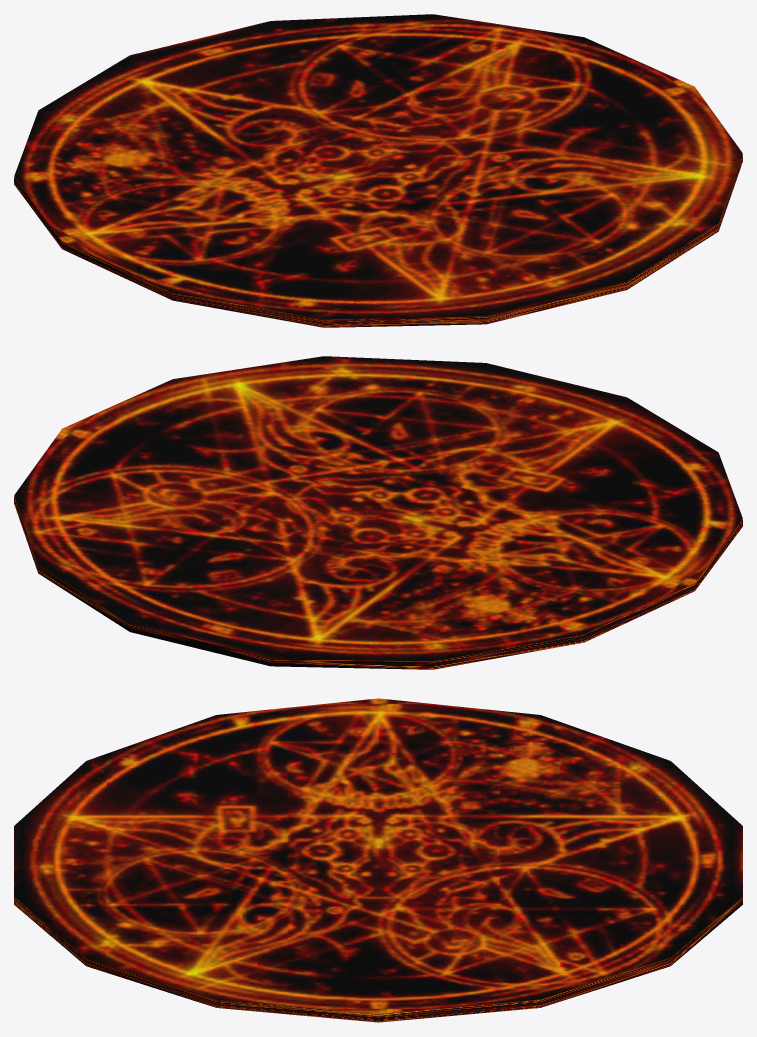
Rendered from rug 5.FBX.
The picture shows the model from 3 angles, top to bottom: view 1: azimuth 30°, elevation 25°; view 2: azimuth 150°, elevation 25°; view 3: azimuth 270°, elevation 25°; orthographic projection. The views are drawn at different scales.
Visible parts, largest first — view 1: PENTAGRAM RUG; view 2: PENTAGRAM RUG; view 3: PENTAGRAM RUG.
Part boxes in pixels (x1,y1,x2,y2): PENTAGRAM RUG: [14, 14, 742, 327]; PENTAGRAM RUG: [14, 356, 742, 669]; PENTAGRAM RUG: [14, 698, 742, 1022].
Bounding box in the file's own units: 155 × 3.09 × 151.
1 material, 1 textured.
